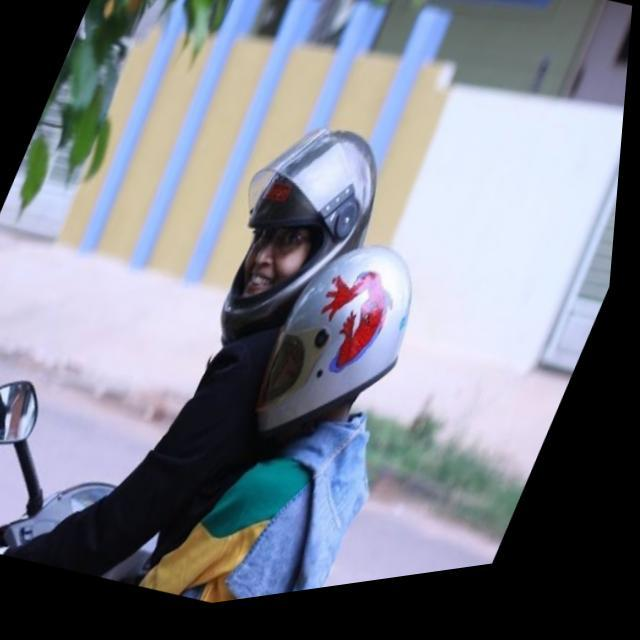Helmet: (210, 122, 379, 345), (240, 235, 411, 435)
